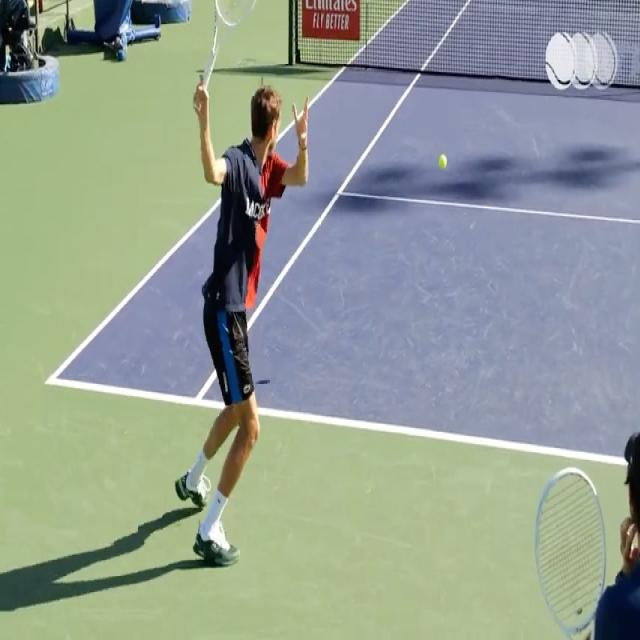forehand-ready: (180, 1, 312, 577)
